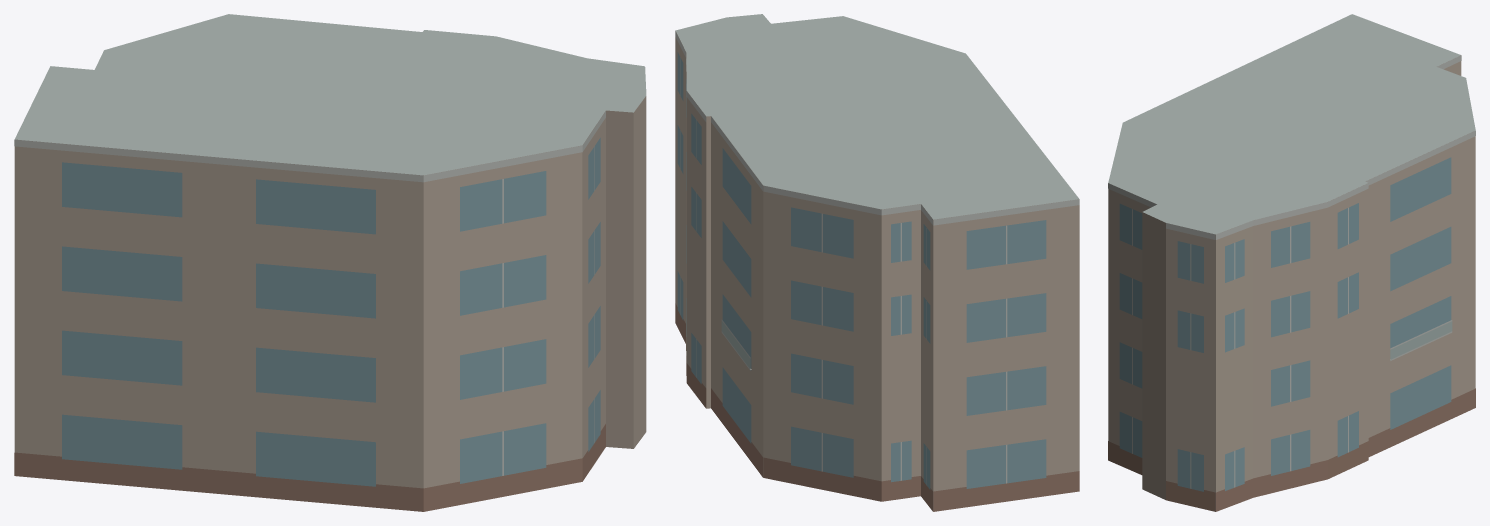
Rendered from survey-upis-32671516.glb.
3 views of the same model, side by side, from view 1: azimuth 30°, elevation 25°; view 2: azimuth 150°, elevation 25°; view 3: azimuth 270°, elevation 25° (orthographic). The views are drawn at different scales.
Visible parts, largest first — view 1: survey-upis-32671516.tmp; view 2: survey-upis-32671516.tmp; view 3: survey-upis-32671516.tmp.
Boxes of the visible parts, bbox=[...] form: survey-upis-32671516.tmp: bbox=[14, 14, 646, 511]; survey-upis-32671516.tmp: bbox=[675, 14, 1079, 511]; survey-upis-32671516.tmp: bbox=[1108, 14, 1475, 511].
Size of the model in its own units: 20.29 by 11.9 by 14.3.
